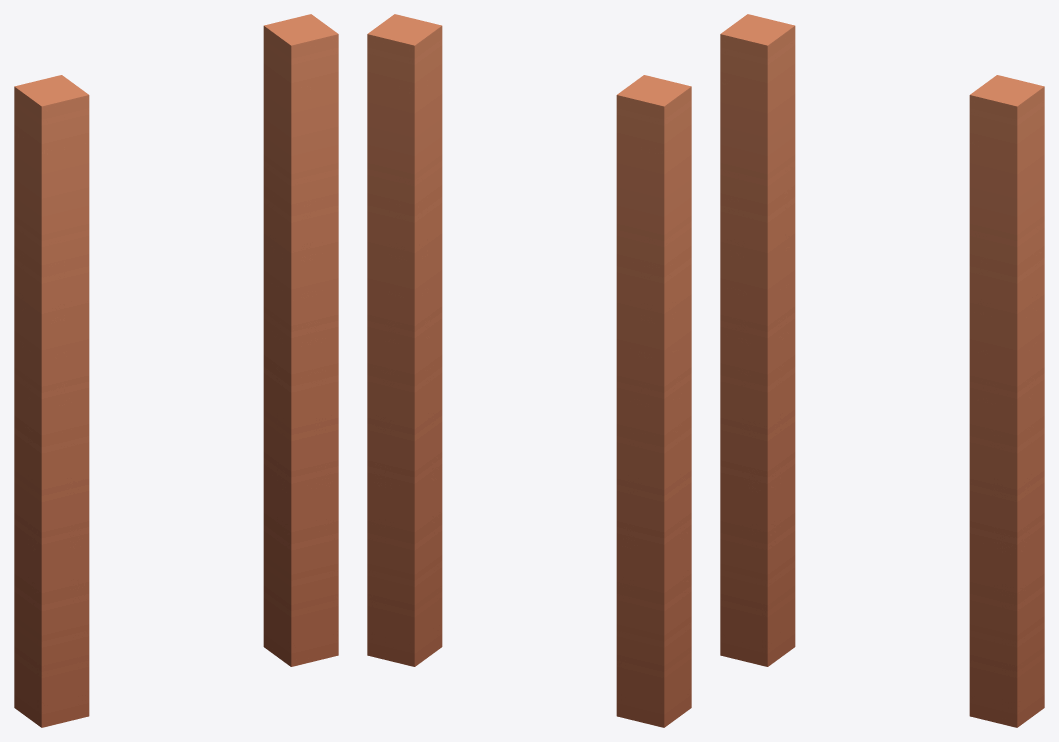
3 renders of one model, left to right at view 1: azimuth 30°, elevation 25°; view 2: azimuth 150°, elevation 25°; view 3: azimuth 330°, elevation 25°, orthographic.
Parts seen in each view (by area): view 1: window-brown-round-middle; view 2: window-brown-round-middle; view 3: window-brown-round-middle.
Part boxes in pixels (bbox=[...]): window-brown-round-middle: bbox=[14, 14, 338, 727]; window-brown-round-middle: bbox=[367, 14, 691, 727]; window-brown-round-middle: bbox=[720, 14, 1044, 727].
Bounding box in the file's own units: 0.3125 × 0.625 × 0.05.
1 material, 1 textured.
